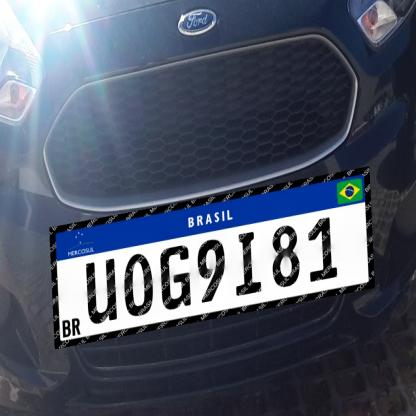PlacaM: (49, 167, 375, 349)
